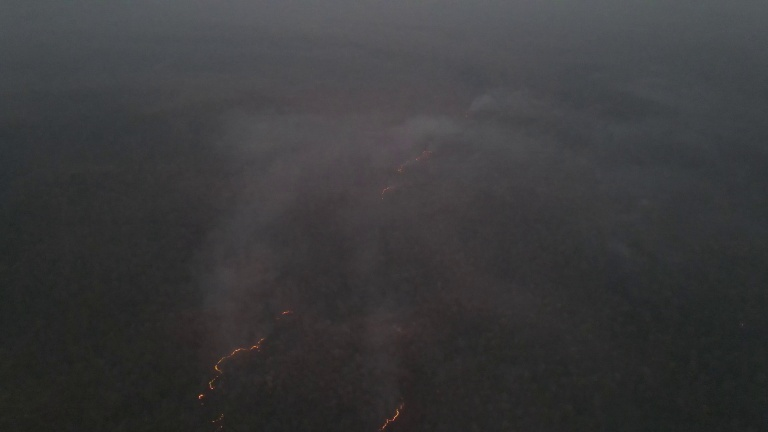fire: (198, 338, 268, 421), (377, 402, 414, 432), (395, 144, 433, 172), (378, 178, 394, 201), (271, 308, 290, 320)
smoke: (195, 112, 464, 329)
